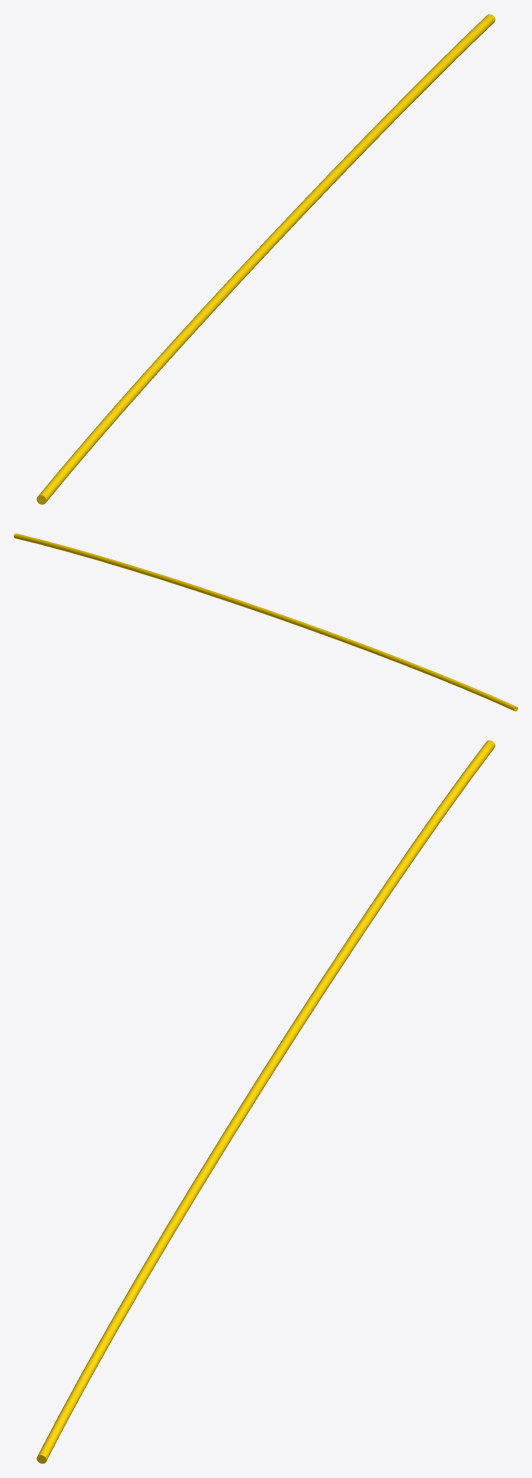
The model's file is Event_420094457_track_1.fbx.
3 renders of one model, top to bottom at view 1: azimuth 90°, elevation 25°; view 2: azimuth 150°, elevation 25°; view 3: azimuth 270°, elevation 25°, orthographic. The views are drawn at different scales.
Visible parts, largest first — view 1: Model; view 2: Model; view 3: Model.
Part boxes in pixels (left/top/right/bottom): Model: left=36, top=14, right=495, bottom=504; Model: left=14, top=533, right=517, bottom=711; Model: left=36, top=740, right=495, bottom=1463.
Bounding box in the file's own units: 5.5 × 0.5403 × 1.78.
